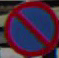No waiting: (7, 3, 55, 52)
